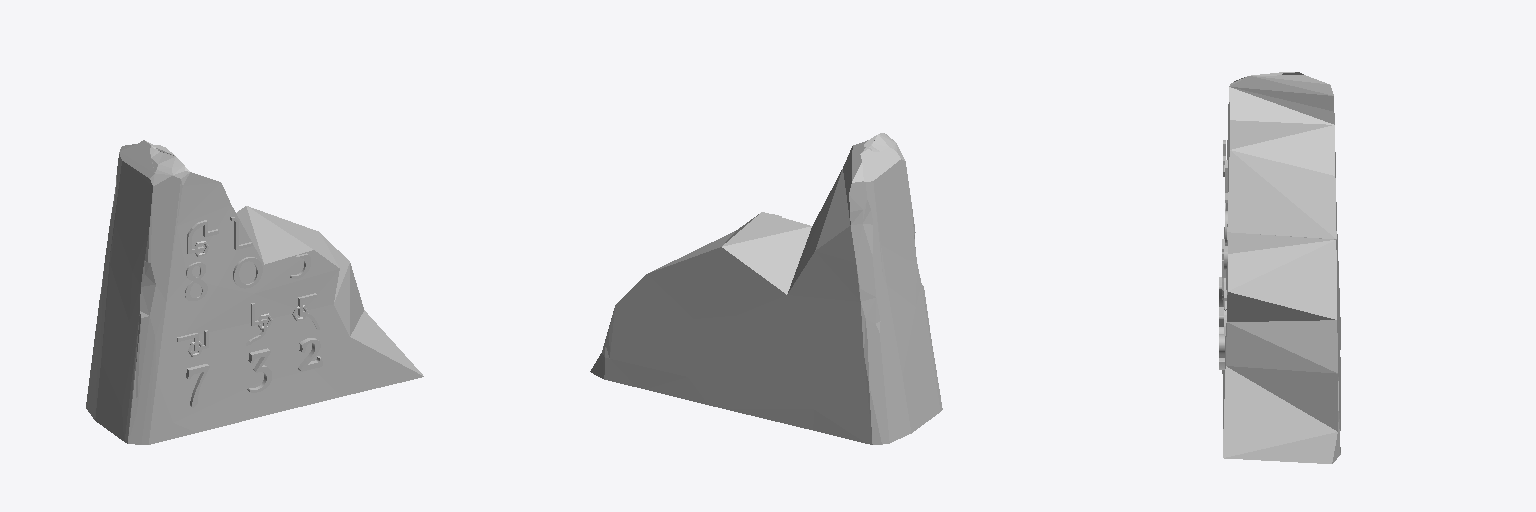
The model's file is runeTafelSpliter2 copy.obj.
3 views of the same model, side by side, from view 1: azimuth 30°, elevation 25°; view 2: azimuth 150°, elevation 25°; view 3: azimuth 270°, elevation 25° (orthographic).
Parts seen in each view (by area): view 1: Cliff_Desert_01.001_Untitled.007, Text.008_Text.009; view 2: Cliff_Desert_01.001_Untitled.007; view 3: Cliff_Desert_01.001_Untitled.007.
Boxes of the visible parts, box(x1,y1,x2,y2) form: Cliff_Desert_01.001_Untitled.007: box(86, 140, 423, 444); Text.008_Text.009: box(247, 348, 271, 392); Cliff_Desert_01.001_Untitled.007: box(590, 133, 942, 444); Cliff_Desert_01.001_Untitled.007: box(1222, 72, 1340, 463).
Size of the model in its own units: 47.25 by 39.79 by 16.39.